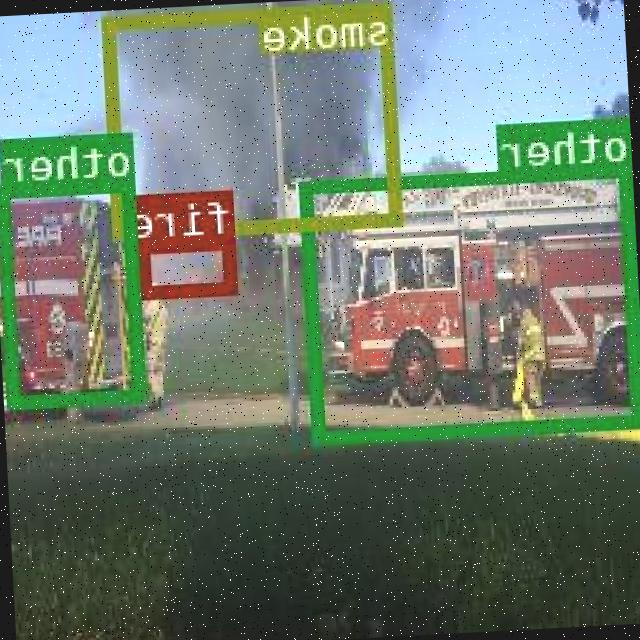fire: (139, 234, 240, 296)
smoke: (105, 0, 404, 236)
